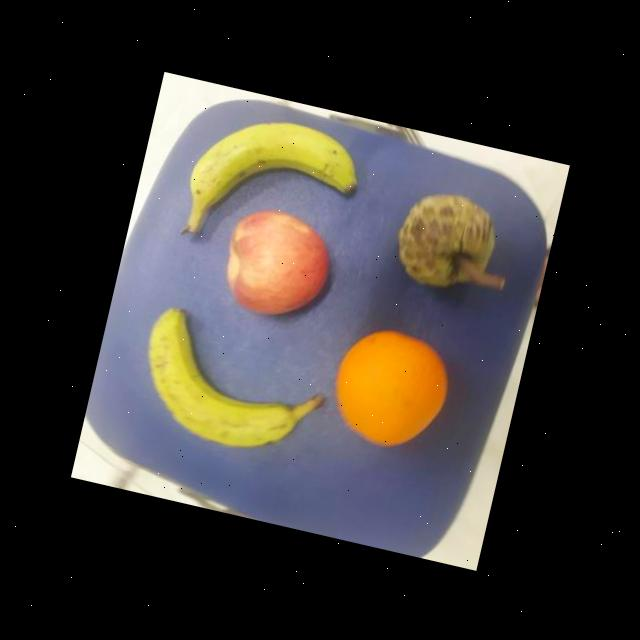Sakya fruit: (388, 179, 504, 299)
apple: (212, 196, 344, 334)
banana: (120, 298, 310, 460), (180, 98, 370, 242)
orange: (322, 312, 462, 458)
